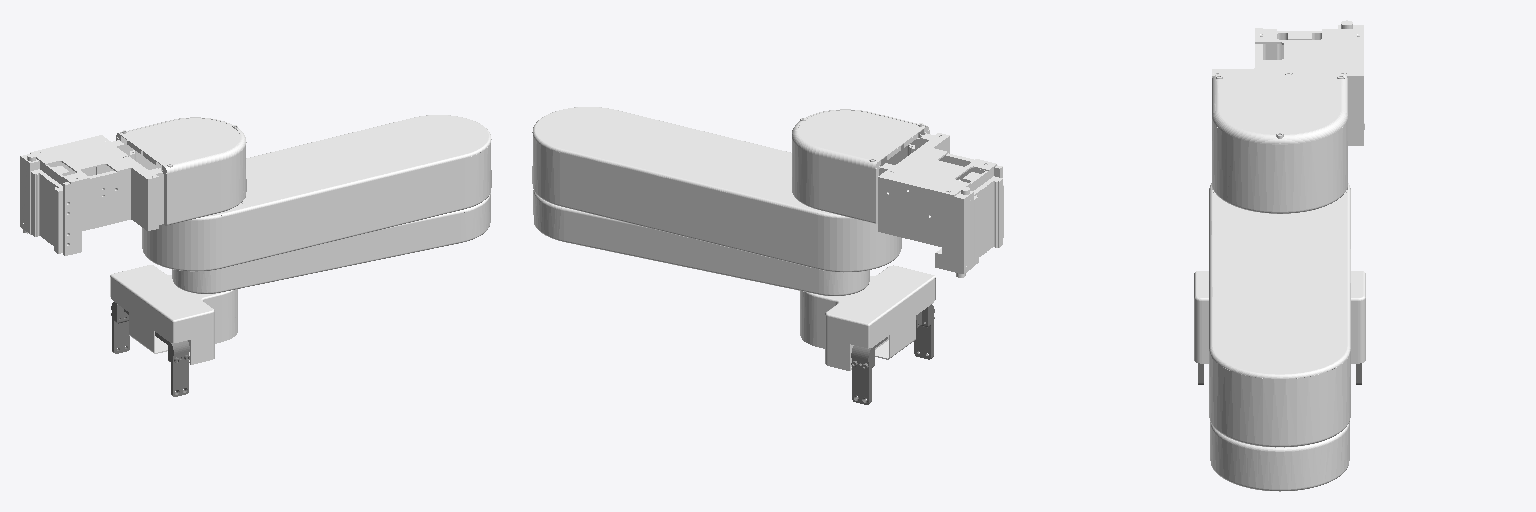
URDF robot description (PF3400SX Robot):
<robot name="PF3400SX Robot">

  <!-- Materials -->

  <material name="white">
    <color rgba="1 1 1 1"/>
  </material>

  <material name="aluminum">
    <color rgba="0.6 0.6 0.6 1"/>
  </material>



  <!-- Links -->

  <link name="z_column">
    <visual>
      <origin xyz="0 0 0" rpy="0 0 0"/>
      <geometry>
        <mesh filename="package://pa_viz_pf3400/urdf/mesh/PF3400_Z_Column.STL" scale="0.001 0.001 0.001"/>
      </geometry>
      <material name="white"/>
    </visual>
  </link>

  <link name="z_carriage">
    <visual>
      <origin xyz="0 0 0" rpy="0 0 0"/>
      <geometry>
        <mesh filename="package://pa_viz_pf3400/urdf/mesh/PF3400_Z_Carriage.STL" scale="0.001 0.001 0.001"/>
      </geometry>
      <material name="white"/>
    </visual>
  </link>

  <link name="inner_link">
    <visual>
      <origin xyz="0 0 0" rpy="0 0 0"/>
      <geometry>
        <mesh filename="package://pa_viz_pf3400/urdf/mesh/PF3400_Inner_Link.STL" scale="0.001 0.001 0.001"/>
      </geometry>
      <material name="white"/>
    </visual>
  </link>

  <link name="outer_link">
    <visual>
      <origin xyz="0 0 0" rpy="0 0 0"/>
      <geometry>
        <mesh filename="package://pa_viz_pf3400/urdf/mesh/PF3400_Outer_Link.STL" scale="0.001 0.001 0.001"/>
      </geometry>
      <material name="white"/>
    </visual>
  </link>

  <link name="hand">
    <visual>
      <origin xyz="0 0 0" rpy="0 0 0"/>
      <geometry>
        <mesh filename="package://pa_viz_pf3400/urdf/mesh/PF3400_Hand.STL" scale="0.001 0.001 0.001"/>
      </geometry>
      <material name="white"/>
    </visual>
  </link>

  <link name="left_finger">
    <visual>
      <origin xyz="0 0 0" rpy="0 0 0"/>
      <geometry>
        <mesh filename="package://pa_viz_pf3400/urdf/mesh/PF3400_Left_Finger.STL" scale="0.001 0.001 0.001"/>
      </geometry>
      <material name="aluminum"/>
    </visual>
  </link>

  <link name="right_finger">
    <visual>
      <origin xyz="0 0 0" rpy="0 0 0"/>
      <geometry>
        <mesh filename="package://pa_viz_pf3400/urdf/mesh/PF3400_Right_Finger.STL" scale="0.001 0.001 0.001"/>
      </geometry>
      <material name="aluminum"/>
    </visual>
  </link>


  <!-- Joints -->

  <joint name="J1" type="prismatic">
    <parent link="z_column"/>
    <child link="z_carriage"/>
    <axis xyz="0 0 1"/>
    <origin xyz="0.03005 -0.0198 0.17535" rpy="0 0 0"/>
    <limit effort="1000.0" lower="0.0015" upper="0.4015" velocity="0.5"/>
  </joint>

  <joint name="J2" type="revolute">
    <parent link="z_carriage"/>
    <child link="inner_link"/>
    <axis xyz="0 0 1"/>
    <origin xyz="0.173001 0.020 .0235" rpy="0 0 0"/>
    <limit effort="1000.0" lower="-1.62316" upper="1.62316" velocity="0.5"/>
  </joint>

  <joint name="J3" type="revolute">
    <parent link="inner_link"/>
    <child link="outer_link"/>
    <axis xyz="0 0 1"/>
    <origin xyz="0.302 0 -0.072285" rpy="0 0 0"/>
    <limit effort="1000.0" lower="0.20944" upper="6.07375" velocity="0.5"/>
  </joint>

  <joint name="J4" type="revolute">
    <parent link="outer_link"/>
    <child link="hand"/>
    <axis xyz="0 0 1"/>
    <origin xyz="0.289 0 -0.032942" rpy="0 0 0"/>
    <limit effort="1000.0" lower="-16.7552" upper="16.7552" velocity="0.5"/>
  </joint>

  <joint name="J5" type="prismatic">
    <parent link="hand"/>
    <child link="left_finger"/>
    <axis xyz="0 1 0"/>
    <origin xyz="0.078573 0 -0.04269" rpy="0 0 0"/>
    <limit effort="1000.0" lower="0.051954" upper="0.070" velocity="0.5"/>
  </joint>

  <joint name="J5_mirror" type="prismatic">
    <parent link="hand"/>
    <child link="right_finger"/>
    <axis xyz="0 -1 0"/>
    <origin xyz="0.078573 0 -0.04269" rpy="0 0 0"/>
    <limit effort="1000.0" lower="0.051954" upper="0.070" velocity="0.5"/>
    <mimic joint="J5" multiplier="1"/>
  </joint>

</robot>

--- Facts derived from the render (not from the file) ---
The picture shows the robot from 3 angles, left to right: view 1: azimuth 30°, elevation 25°; view 2: azimuth 150°, elevation 25°; view 3: azimuth 270°, elevation 25°; orthographic projection.
Robot: PF3400SX Robot — 7 links, 6 joints (3 revolute, 3 prismatic); root link z_column; default pose: all joints at 0 but 4 set to mid-range because 0 is outside their limits (J1 = 0.2015, J3 = 3.14, J5 = 0.061, J5_mirror = 0.061).
Visible links, largest first — view 1: inner_link, z_carriage, outer_link, hand, left_finger, right_finger; view 2: inner_link, z_carriage, outer_link, hand, right_finger, left_finger; view 3: inner_link, z_carriage, outer_link, hand.
Link boxes in pixels (box(x1,y1,x2,y2)): inner_link: box(142, 115, 491, 271); z_carriage: box(20, 117, 246, 255); outer_link: box(172, 193, 490, 293); hand: box(110, 265, 237, 364); left_finger: box(155, 332, 189, 396); right_finger: box(111, 302, 129, 353); inner_link: box(532, 107, 901, 272); z_carriage: box(792, 109, 1003, 277); outer_link: box(533, 190, 869, 295); hand: box(800, 265, 935, 370); right_finger: box(851, 337, 887, 404); left_finger: box(914, 304, 934, 359); inner_link: box(1209, 183, 1350, 446); z_carriage: box(1212, 20, 1364, 213); outer_link: box(1210, 422, 1349, 491); hand: box(1194, 271, 1365, 363).
Bounding box of the posed robot: 0.537 × 0.1384 × 0.2684 m (x, y, z).
Meshes: 7 distinct files referenced, 6 mesh visuals loaded (6 binary STL); not drawn: 1 (reference not matched to a file when rendering).